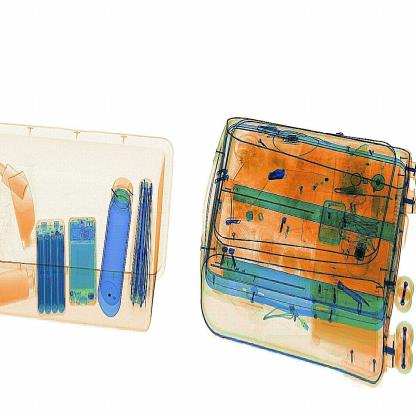knife: (266, 164, 292, 184)
